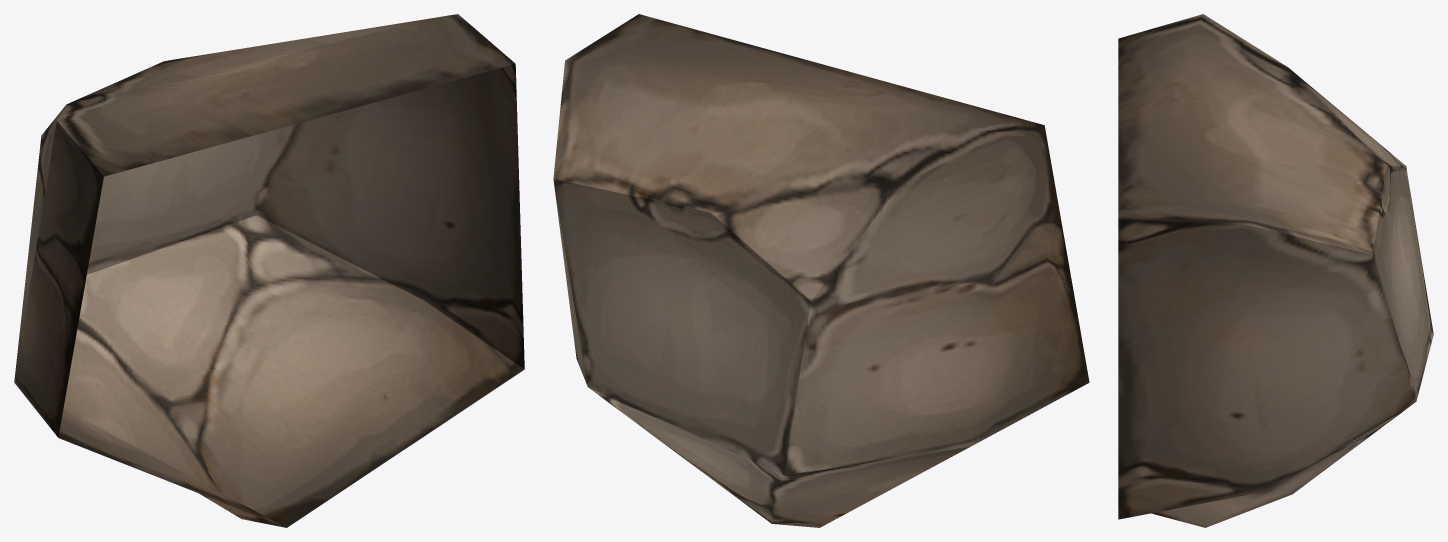
File: Rock 01.FBX
The picture shows the model from 3 angles, left to right: view 1: azimuth 30°, elevation 25°; view 2: azimuth 150°, elevation 25°; view 3: azimuth 270°, elevation 25°; orthographic projection. The views are drawn at different scales.
Parts seen in each view (by area): view 1: env_rock01; view 2: env_rock01; view 3: env_rock01.
Part boxes in pixels (x1,y1,x2,y2): env_rock01: [14, 14, 524, 527]; env_rock01: [553, 14, 1089, 527]; env_rock01: [1118, 14, 1433, 527].
Bounding box in the file's own units: 82.23 × 74.91 × 50.17.
